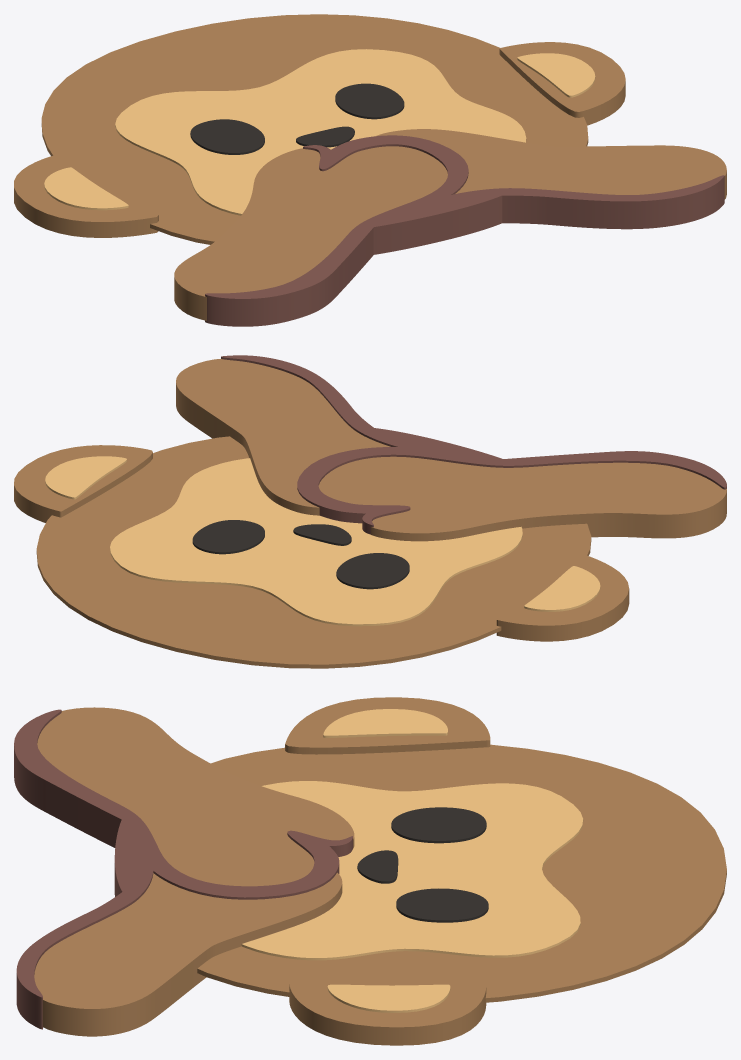
The model's file is emoji_u1f64a.glb.
3 renders of one model, top to bottom at view 1: azimuth 30°, elevation 25°; view 2: azimuth 150°, elevation 25°; view 3: azimuth 270°, elevation 25°, orthographic. The views are drawn at different scales.
Visible parts, largest first — view 1: emoji_u1f64a; view 2: emoji_u1f64a; view 3: emoji_u1f64a.
Boxes of the visible parts, <box> form: emoji_u1f64a: <box>14,14,726,326</box>; emoji_u1f64a: <box>14,355,726,668</box>; emoji_u1f64a: <box>14,697,726,1045</box>.
Bounding box in the file's own units: 0.0309 × 0.0014 × 0.0282.
